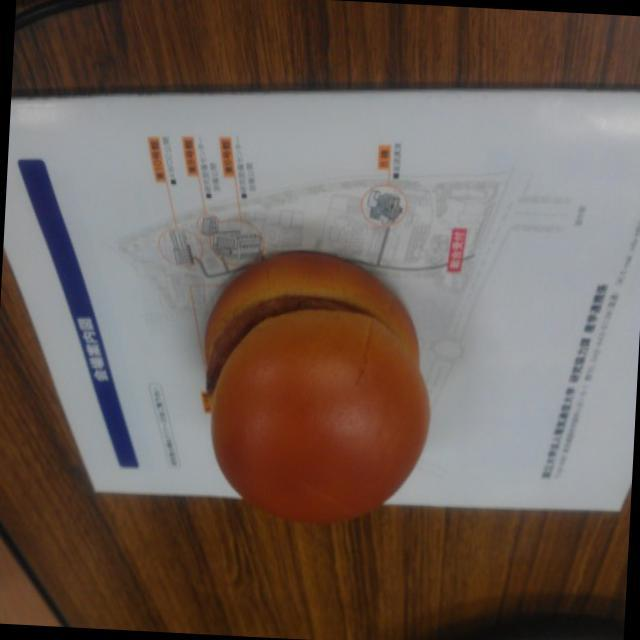Hamburger: (186, 248, 446, 542)
